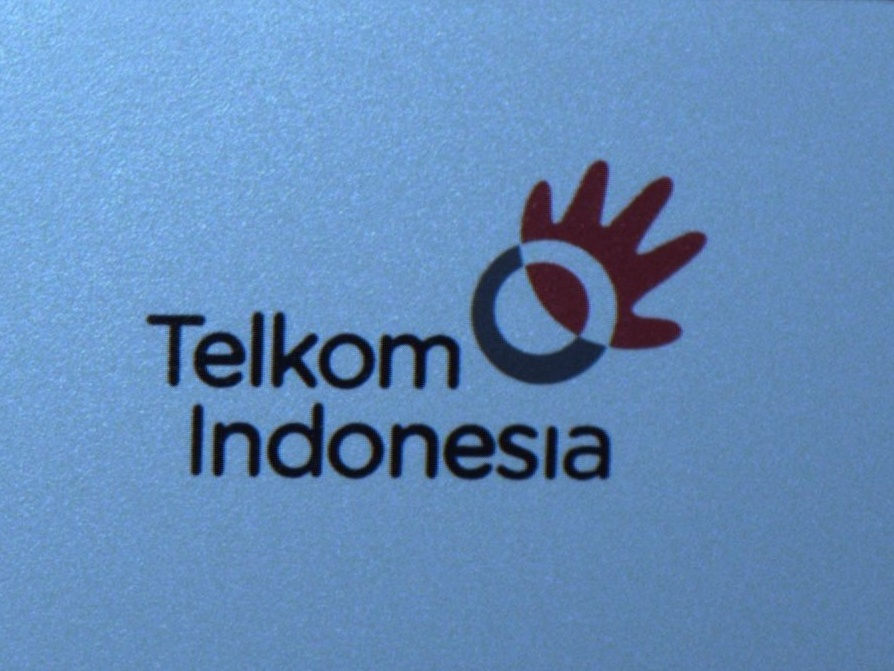BQ_IndonTelkom: (144, 153, 710, 494)
